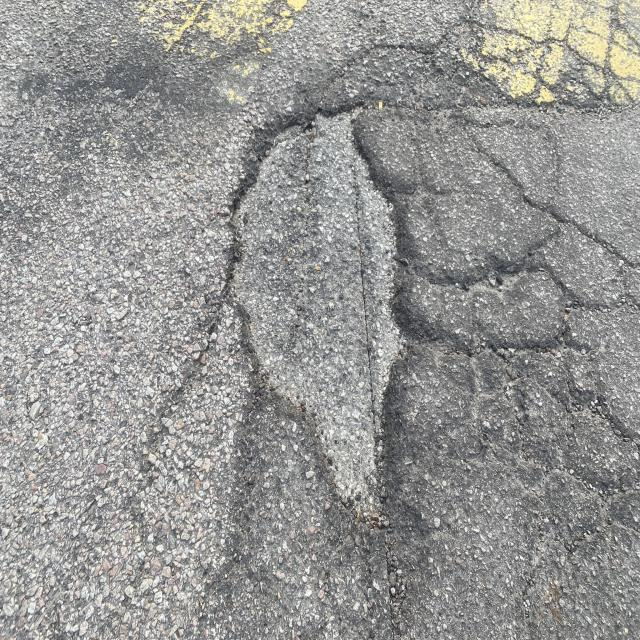Pothole: (196, 43, 440, 603)
